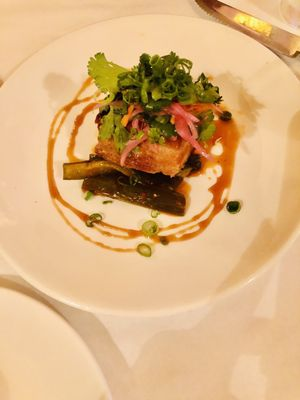curry: (1, 0, 299, 347)
